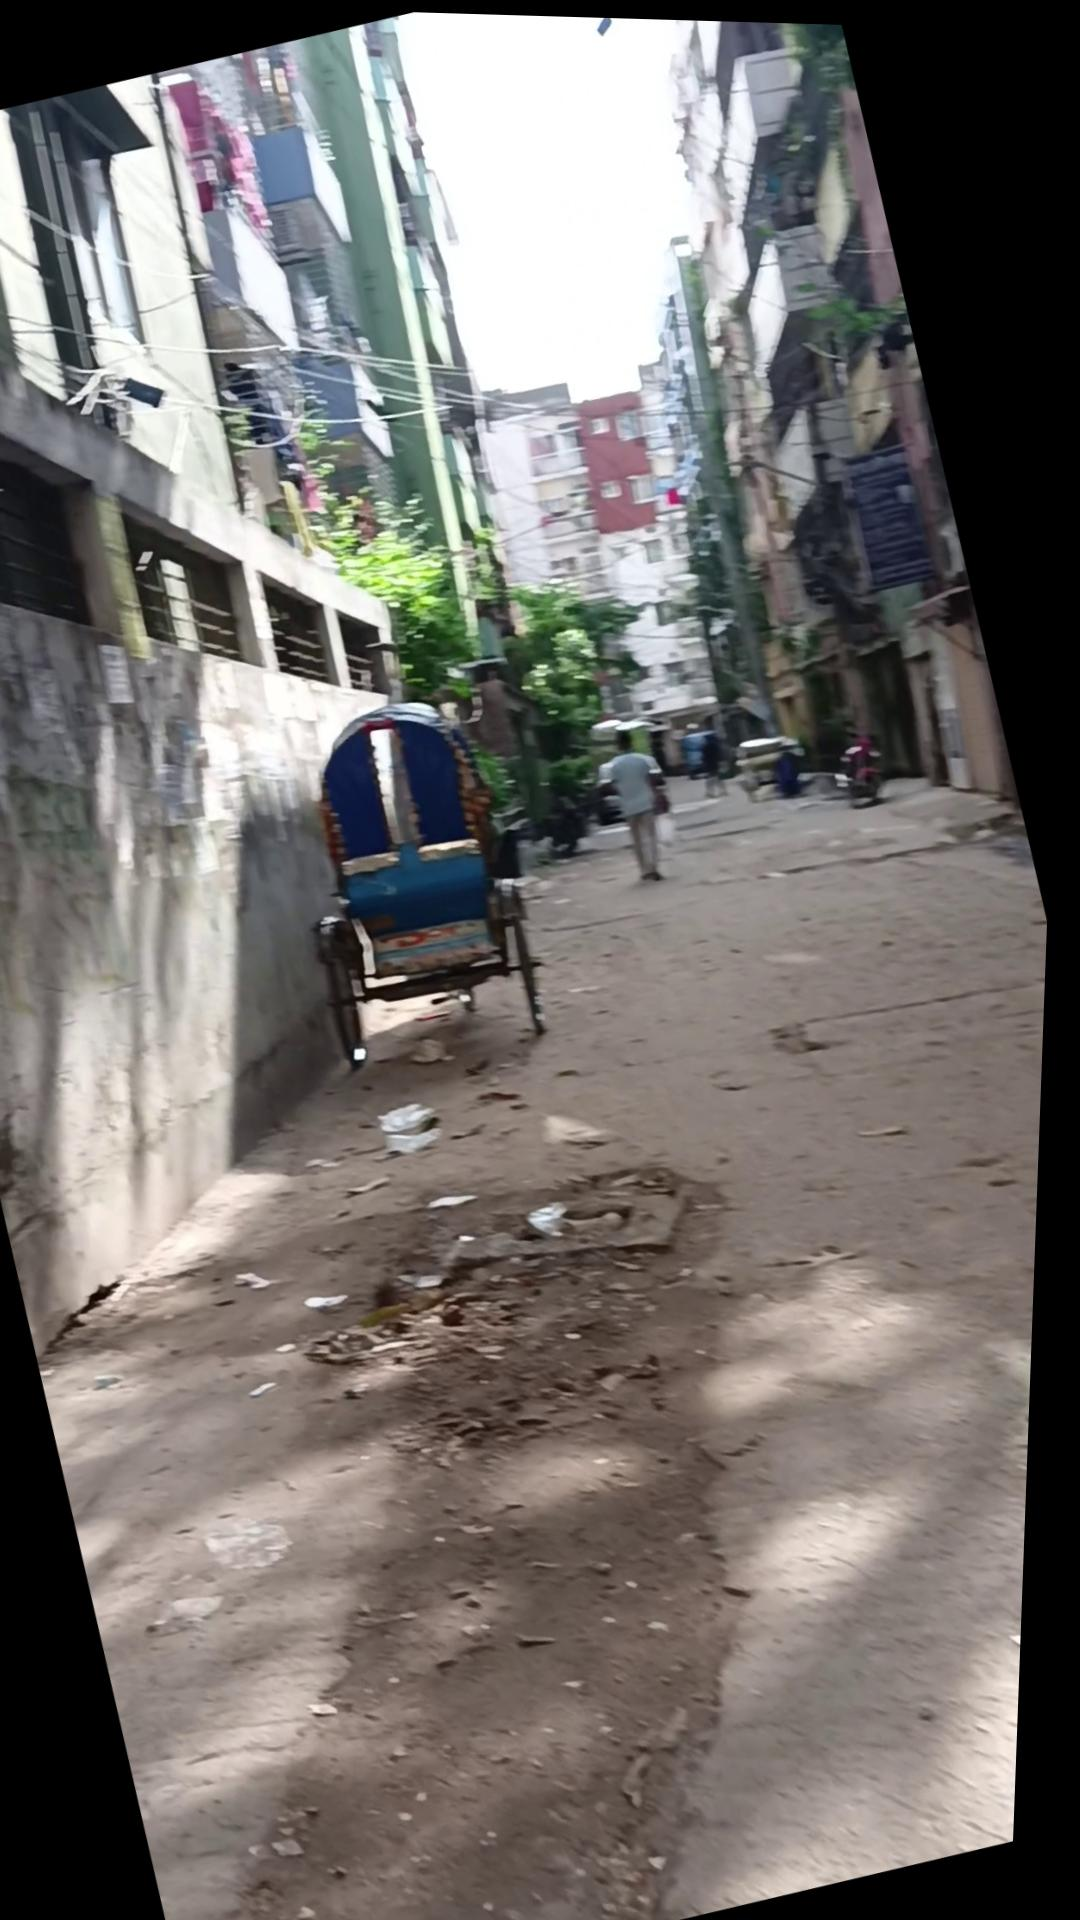Bollard: (256, 671, 580, 1085)
Broken-road: (0, 664, 1061, 1920)
Light-pole: (828, 715, 900, 806)
Muddy road: (587, 716, 698, 887), (691, 709, 740, 796)
